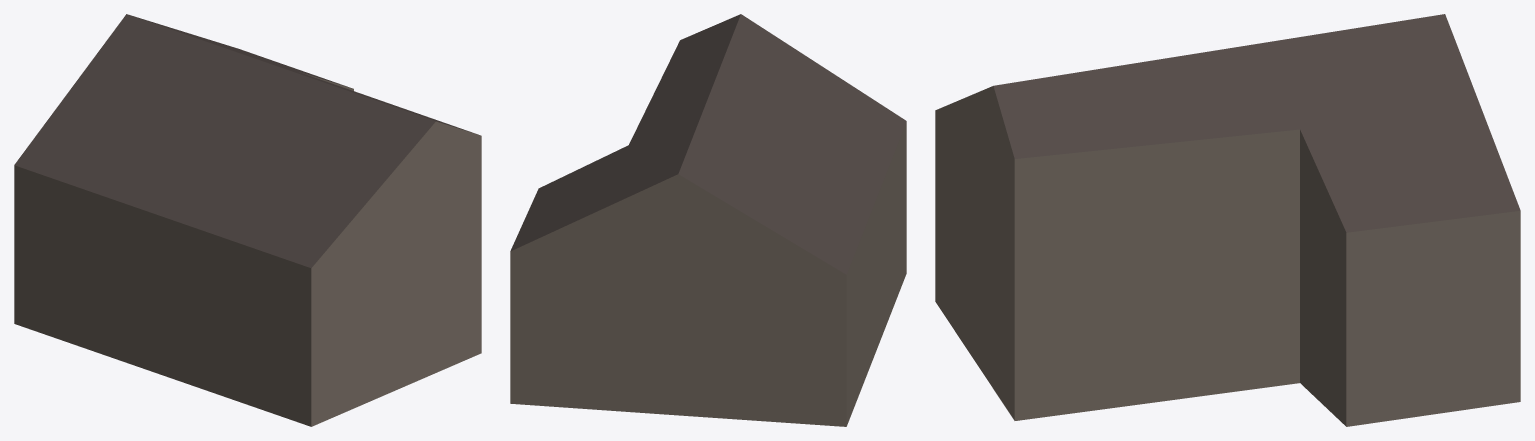
3 renders of one model, left to right at view 1: azimuth 30°, elevation 25°; view 2: azimuth 150°, elevation 25°; view 3: azimuth 270°, elevation 25°, orthographic. The views are drawn at different scales.
Parts seen in each view (by area): view 1: HP-w1198645069; view 2: HP-w1198645069; view 3: HP-w1198645069.
Part boxes in pixels (x1,y1,x2,y2): HP-w1198645069: (14,14,481,426); HP-w1198645069: (510,14,906,426); HP-w1198645069: (935,14,1520,426).
Bounding box in the file's own units: 13.08 × 9.52 × 16.65.
